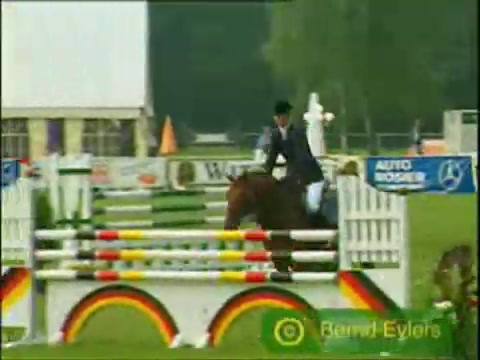horse: (222, 168, 341, 275)
